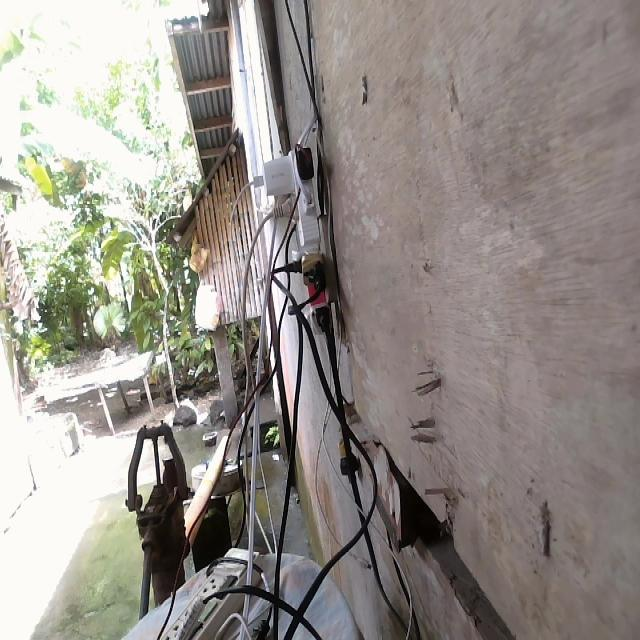-: (248, 137, 334, 339)
